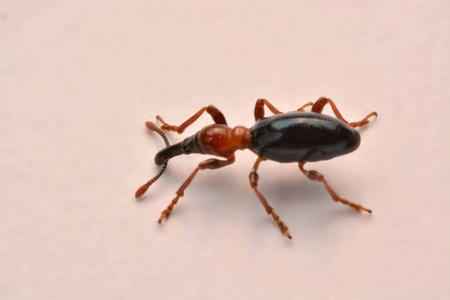Curculionidae: (134, 97, 378, 240)
